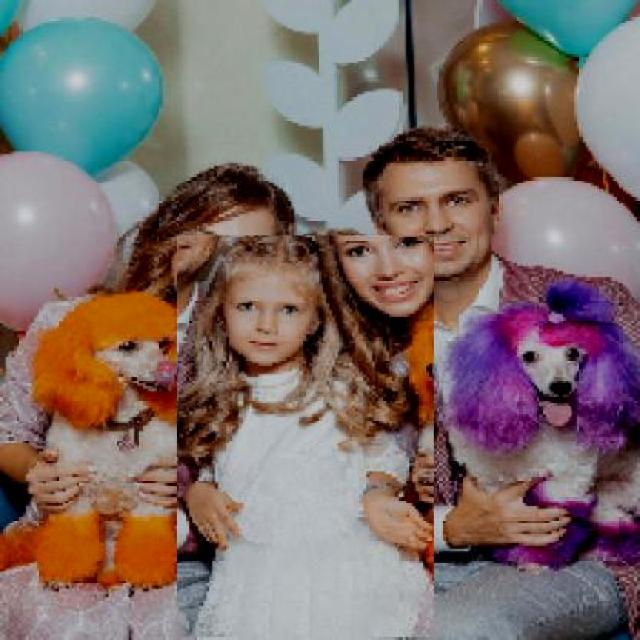child: (175, 236, 434, 638)
